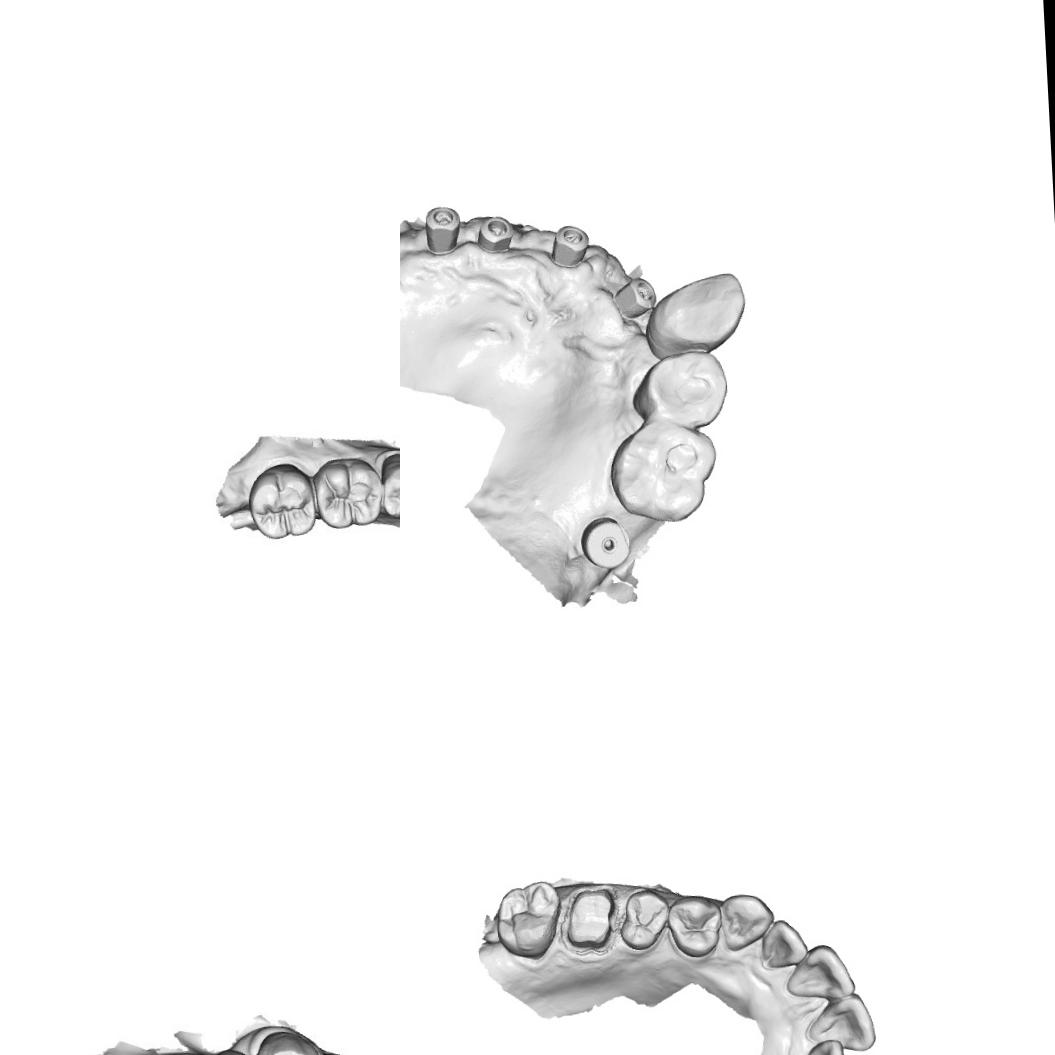canine: (645, 268, 748, 352), (716, 890, 777, 954), (255, 1028, 322, 1055)
crown: (558, 882, 622, 956)
implant: (581, 514, 628, 564), (420, 204, 460, 256), (612, 274, 658, 314), (549, 220, 591, 261), (472, 212, 512, 252)
incisor: (802, 992, 877, 1054), (783, 942, 856, 1002), (757, 916, 809, 970), (798, 1038, 847, 1055)
molar: (605, 416, 720, 526), (245, 460, 322, 542), (311, 450, 386, 534), (492, 880, 560, 961)
premolar: (626, 349, 729, 430), (666, 892, 724, 960), (617, 886, 671, 952), (377, 458, 400, 523)
